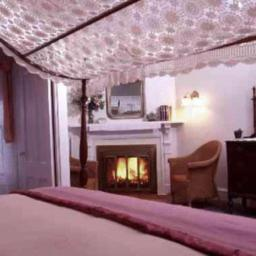Cama: (2, 177, 255, 253)
